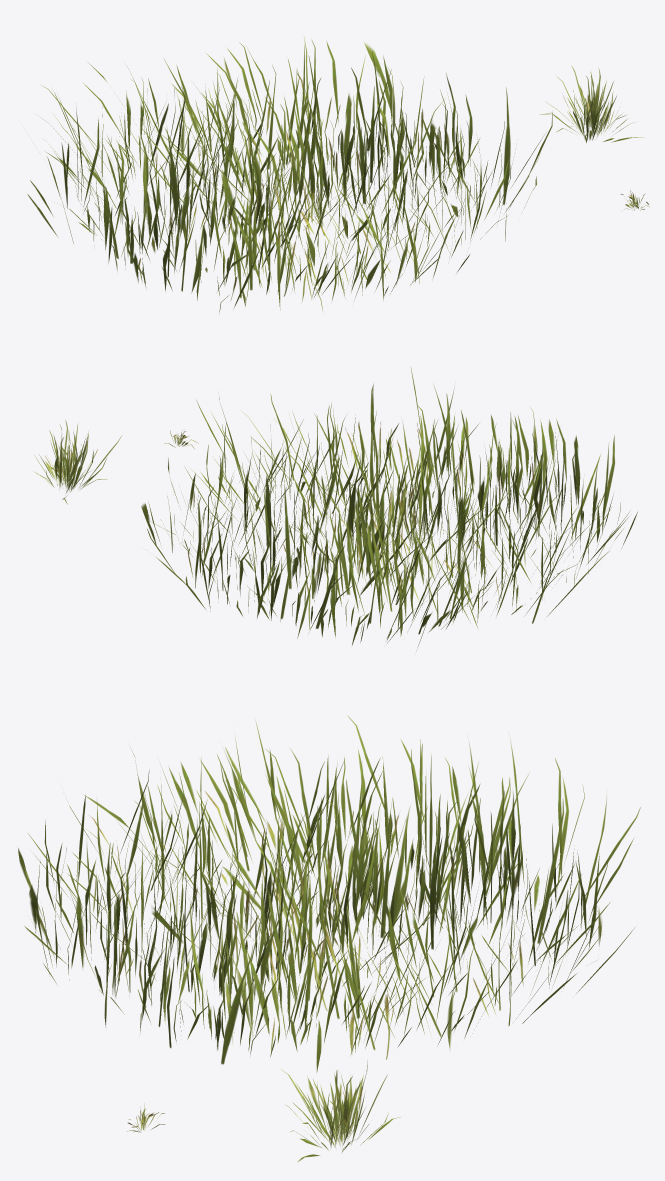
The model's file is grass.glb.
The picture shows the model from 3 angles, top to bottom: view 1: azimuth 30°, elevation 25°; view 2: azimuth 150°, elevation 25°; view 3: azimuth 270°, elevation 25°; orthographic projection. The views are drawn at different scales.
Visible parts, largest first — view 1: GrassLawnAutumn, Grass1; view 2: GrassLawnAutumn, Grass1; view 3: GrassLawnAutumn, Grass1.
Boxes of the visible parts, <box> form: GrassLawnAutumn: <box>27,37,552,313</box>; Grass1: <box>540,65,644,142</box>; GrassLawnAutumn: <box>141,368,637,650</box>; Grass1: <box>34,420,121,504</box>; GrassLawnAutumn: <box>18,715,640,1072</box>; Grass1: <box>280,1061,400,1161</box>.
Size of the model in its own units: 4.79 by 0.9977 by 3.54.
Materials: 4 (4 with a texture image).
